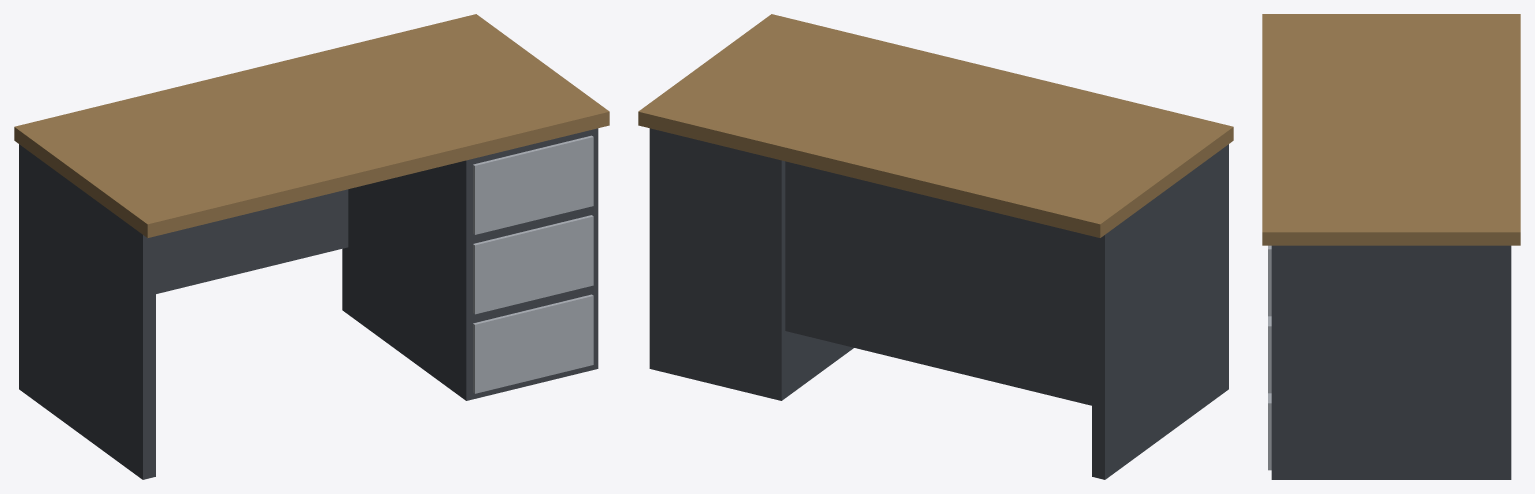
The model's file is work desk.glb.
The picture shows the model from 3 angles, left to right: view 1: azimuth 30°, elevation 25°; view 2: azimuth 150°, elevation 25°; view 3: azimuth 270°, elevation 25°; orthographic projection. The views are drawn at different scales.
Parts seen in each view (by area): view 1: work desk; view 2: work desk; view 3: work desk.
Part boxes in pixels (x1,y1,x2,y2): work desk: (14, 14, 609, 479); work desk: (638, 14, 1233, 479); work desk: (1262, 14, 1520, 479).
Size of the model in its own units: 1.4 by 0.75 by 0.7.
